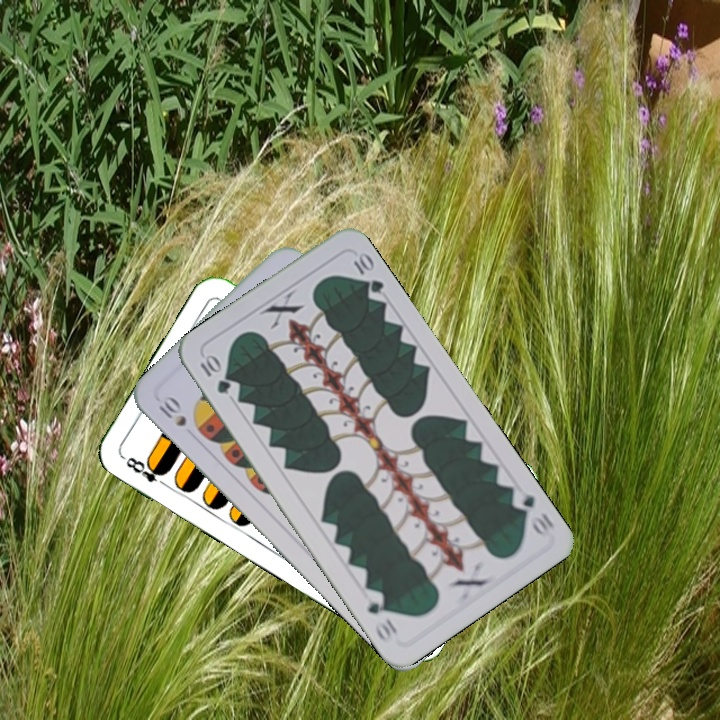E8: (118, 452, 171, 490)
G10: (507, 484, 558, 541), (196, 350, 234, 397)
S10: (154, 394, 189, 430)
